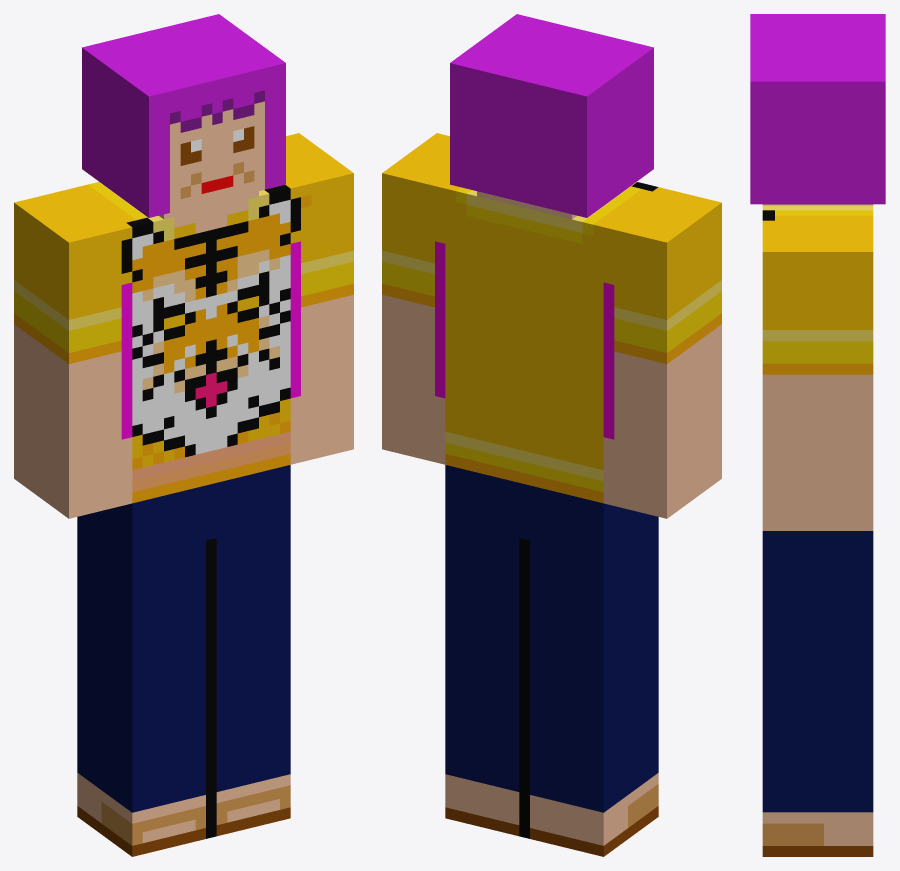
Rendered from obasan.obj.
The picture shows the model from 3 angles, left to right: view 1: azimuth 30°, elevation 25°; view 2: azimuth 150°, elevation 25°; view 3: azimuth 270°, elevation 25°; orthographic projection.
Size of the model in its own units: 2.7 by 6.9 by 1.1.
Materials: 1 (1 with a texture image).
